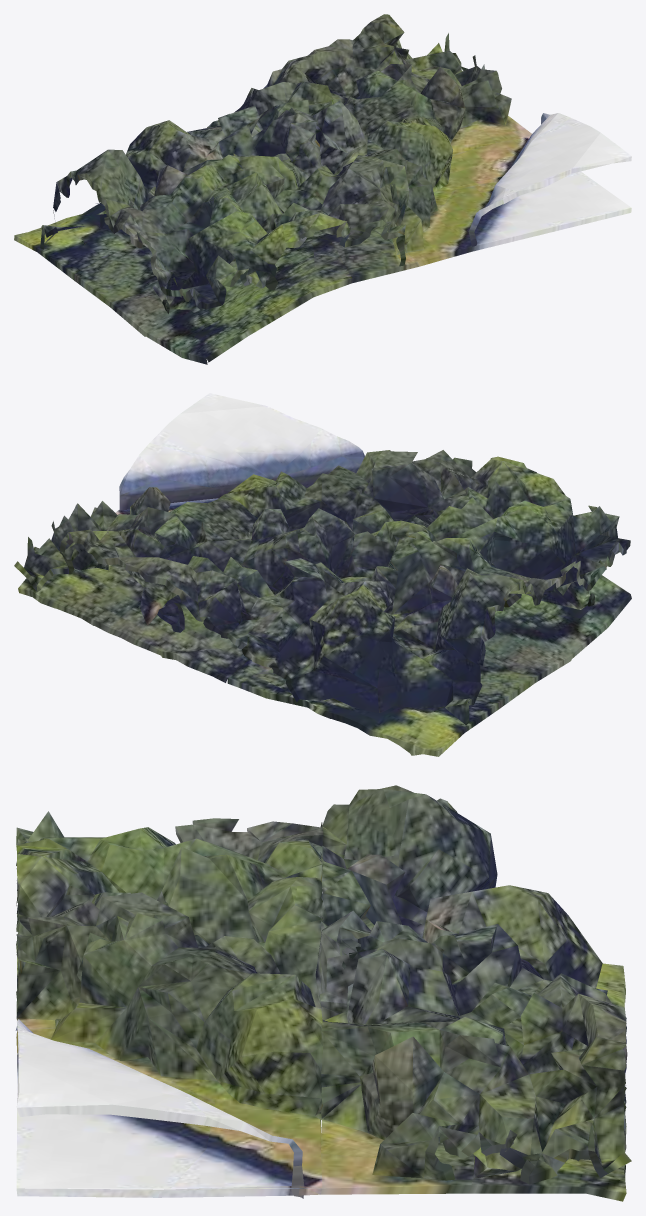
3 views of the same model, one above another, from view 1: azimuth 30°, elevation 25°; view 2: azimuth 150°, elevation 25°; view 3: azimuth 270°, elevation 25° (orthographic). The views are drawn at different scales.
Parts seen in each view (by area): view 1: Mesh_0.268; view 2: Mesh_0.268; view 3: Mesh_0.268.
Part boxes in pixels (<box>): Mesh_0.268: <box>14,14,631,364</box>; Mesh_0.268: <box>14,393,631,756</box>; Mesh_0.268: <box>15,785,631,1201</box>.
Size of the model in its own units: 99.08 by 32.13 by 77.76.
Materials: 1 (1 with a texture image).
